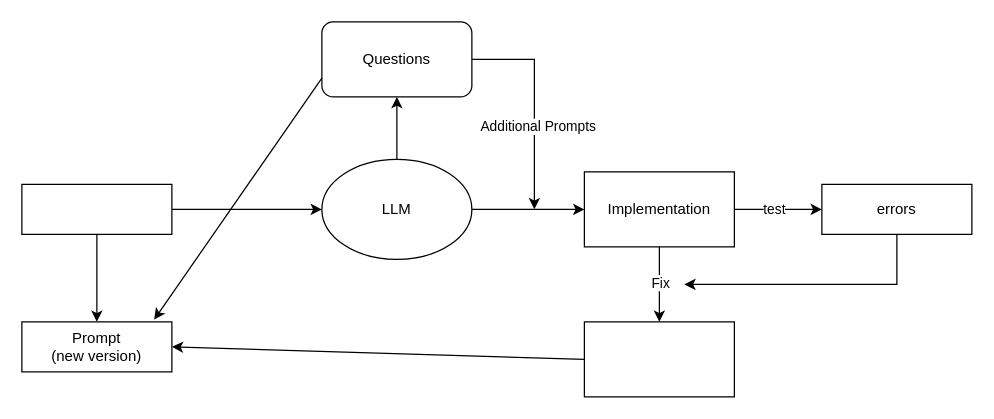
Some shapes in this 994 by 419 pixel diagram are drawn without their labels. The shapes that lost their labels are listed below. From the top down, each one's box as (x1, y1, x2, y2) in pixels, then its label:
(21, 183, 172, 234): Prompt (primary)
(583, 321, 734, 397): Fixed Implementation
